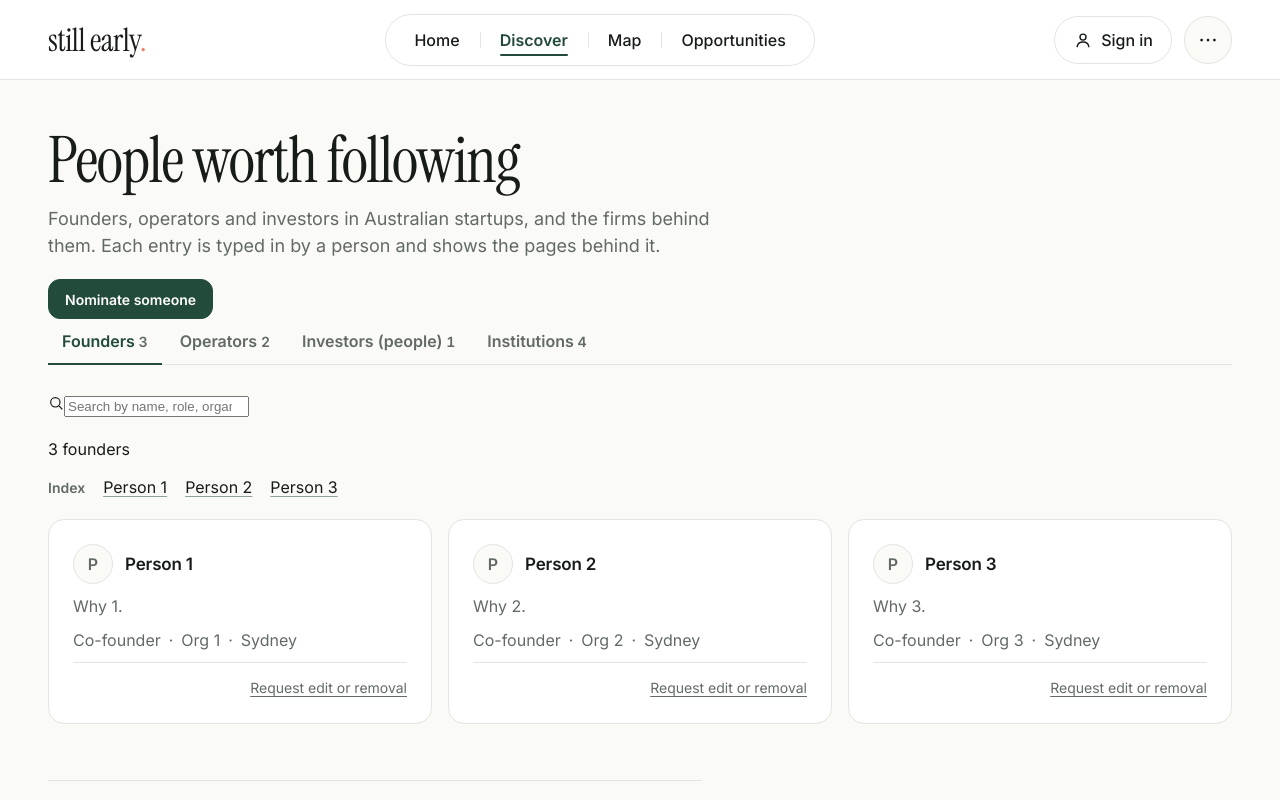
Test: an index of names, a way to nominate, and a way to ask for more › has "Nominate someone", which says the form is not set up yet until the owner makes it
Click the button "Nominate someone": point(131, 299) left=48, top=279, right=213, bottom=319
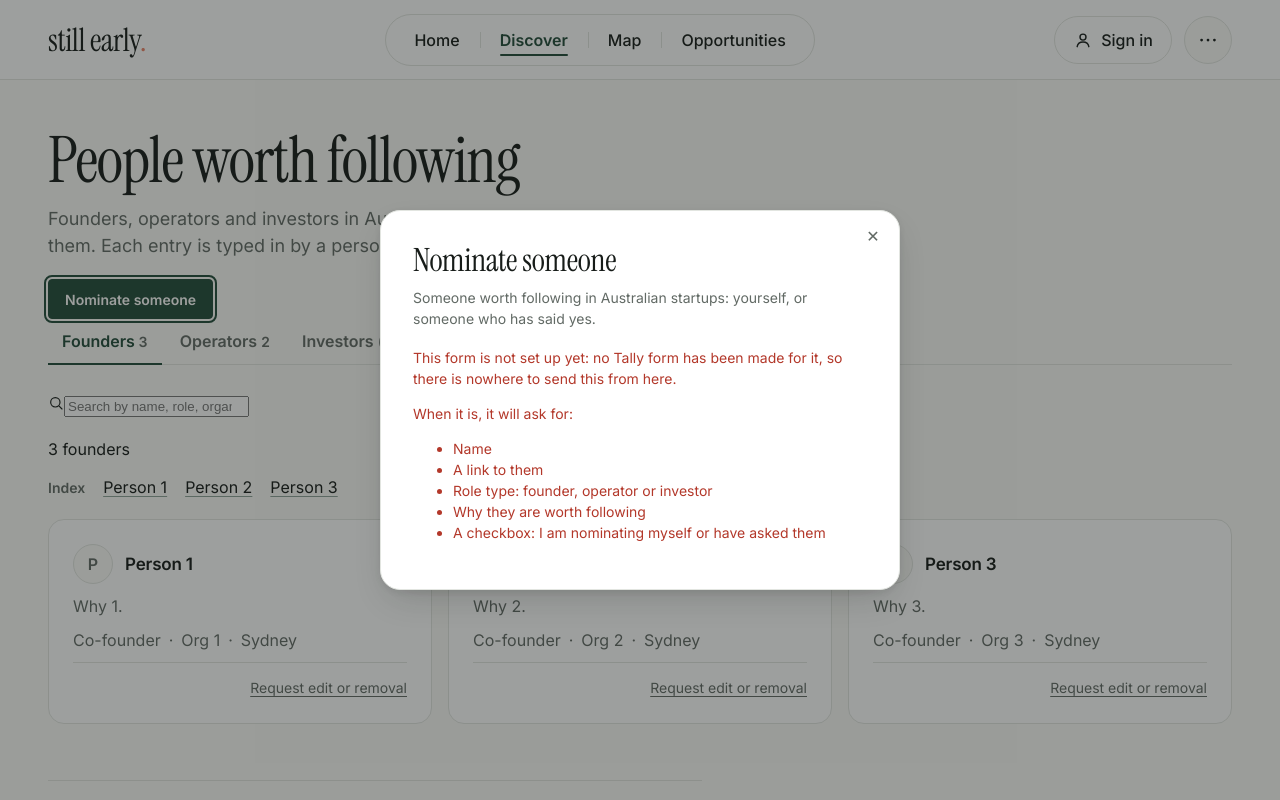
Result: the dialog "Nominate someone" shows "This form is not set up yet" at left=413, top=349, right=842, bottom=387
Result: the list item "A checkbox: I am nominating myself or have asked them" is shown at left=453, top=522, right=867, bottom=543
